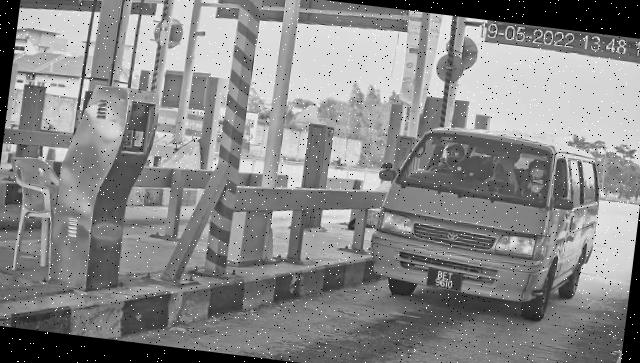License_Plate: (424, 265, 466, 295)
van: (365, 119, 607, 328)
